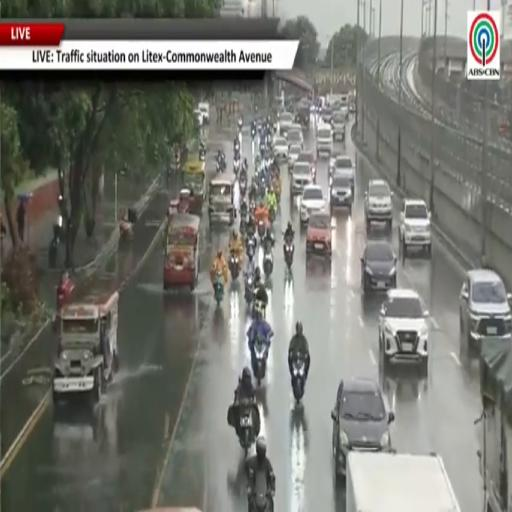car: (331, 378, 394, 477), (379, 288, 429, 374), (460, 269, 511, 350), (361, 239, 397, 293), (399, 199, 431, 257), (365, 180, 392, 232), (307, 212, 332, 259), (300, 184, 326, 226), (330, 175, 353, 214), (333, 155, 355, 194), (290, 161, 312, 196), (297, 151, 316, 181), (316, 125, 332, 157), (328, 148, 344, 179), (332, 111, 346, 141), (273, 137, 289, 160), (288, 144, 301, 170), (279, 112, 293, 136), (289, 123, 303, 147), (286, 128, 303, 147), (198, 103, 209, 124), (194, 109, 205, 126), (321, 106, 332, 123)
jeepney: (53, 278, 118, 403), (163, 214, 200, 290), (209, 173, 235, 226), (182, 159, 206, 215), (140, 507, 201, 511)
motorcycle: (248, 471, 273, 511), (239, 400, 255, 457), (252, 338, 268, 385), (49, 216, 62, 268), (292, 357, 305, 403), (214, 272, 224, 307), (263, 246, 273, 278), (284, 239, 294, 271), (119, 219, 133, 241), (245, 274, 254, 308), (229, 251, 239, 281), (253, 299, 266, 318), (246, 236, 255, 261), (239, 171, 247, 196), (257, 219, 266, 239), (239, 216, 246, 238), (240, 200, 248, 218), (234, 158, 240, 174), (269, 207, 275, 223), (238, 119, 242, 142), (234, 140, 240, 155), (216, 162, 223, 173), (199, 150, 205, 162), (312, 167, 316, 183), (251, 127, 256, 139)
truck: (346, 452, 460, 511), (477, 334, 511, 511)
